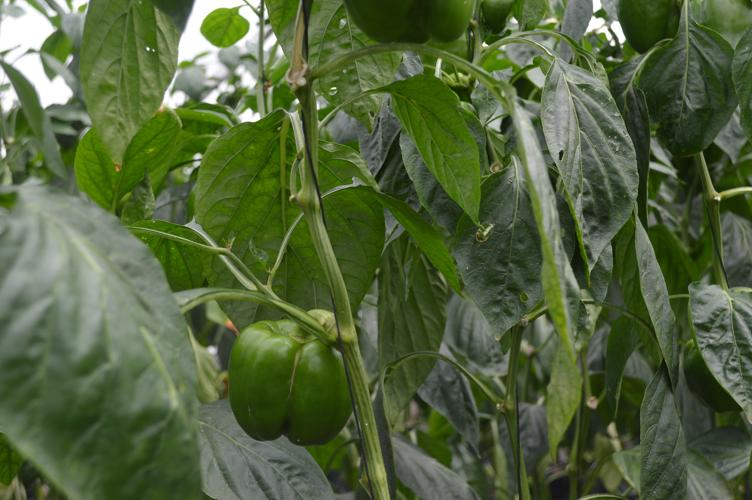BellPepper: (226, 321, 353, 444)
